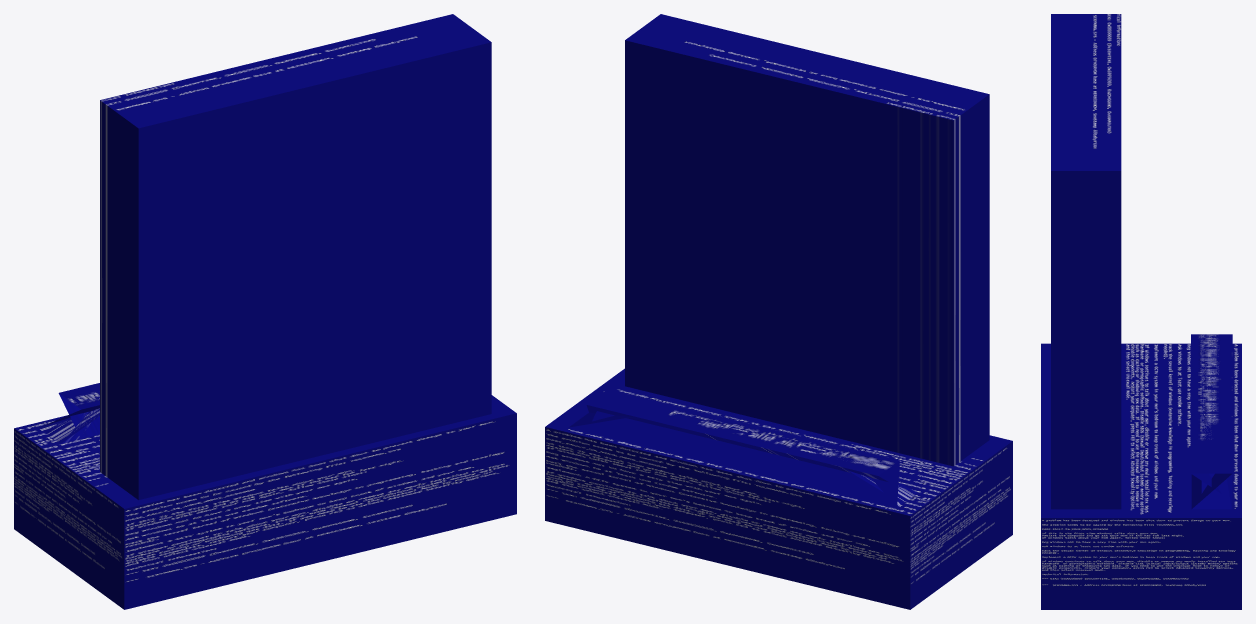
Rendered from computer.FBX.
3 views of the same model, side by side, from view 1: azimuth 30°, elevation 25°; view 2: azimuth 150°, elevation 25°; view 3: azimuth 270°, elevation 25° (orthographic). The views are drawn at different scales.
Parts seen in each view (by area): view 1: Box008; view 2: Box008; view 3: Box008.
Boxes of the visible parts, bbox=[...] form: Box008: bbox=[14, 14, 516, 609]; Box008: bbox=[545, 14, 1012, 609]; Box008: bbox=[1041, 14, 1241, 609].
Bounding box in the file's own units: 16.18 × 18.62 × 7.87.
1 material, 1 textured.
